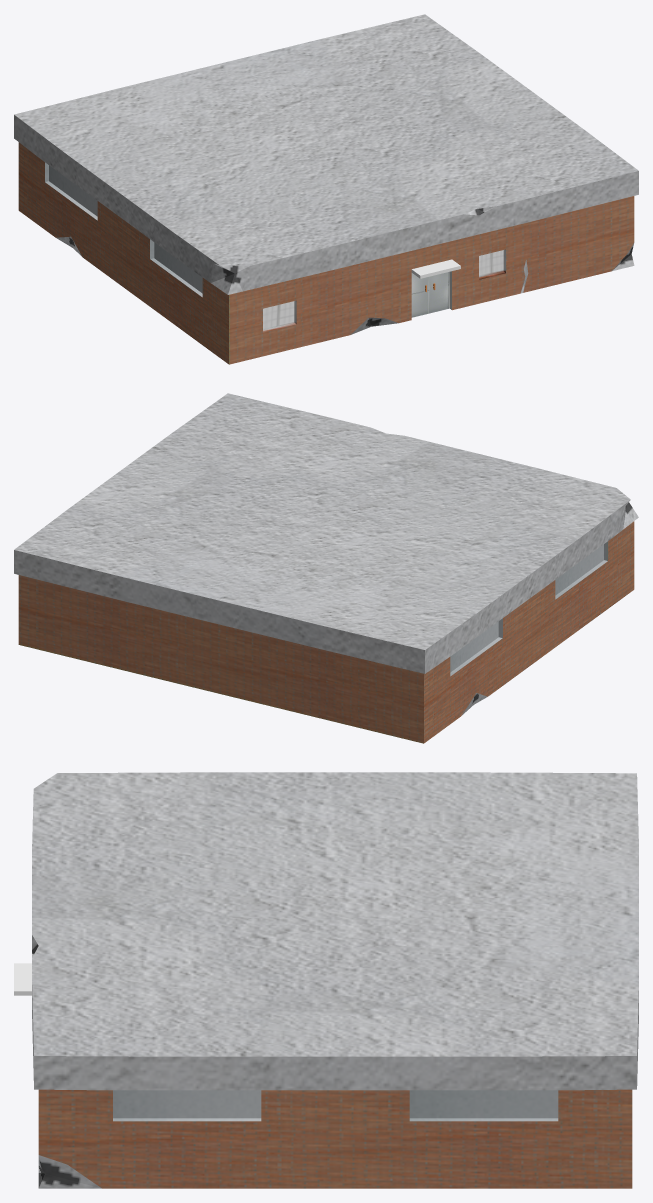
File: City_Shelter.FBX
The picture shows the model from 3 angles, top to bottom: view 1: azimuth 30°, elevation 25°; view 2: azimuth 150°, elevation 25°; view 3: azimuth 270°, elevation 25°; orthographic projection. The views are drawn at different scales.
Parts seen in each view (by area): view 1: Box001; view 2: Box001; view 3: Box001.
Boxes of the visible parts, left/top/right/bottom form: Box001: left=14, top=14, right=638, bottom=364; Box001: left=14, top=393, right=638, bottom=743; Box001: left=14, top=772, right=638, bottom=1188.
Size of the model in its own units: 2040 by 450 by 1895.
1 material, 1 textured.
